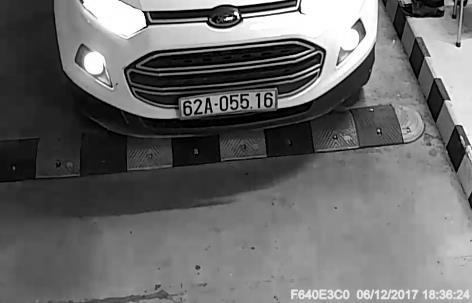License-plate: (169, 81, 295, 131)
